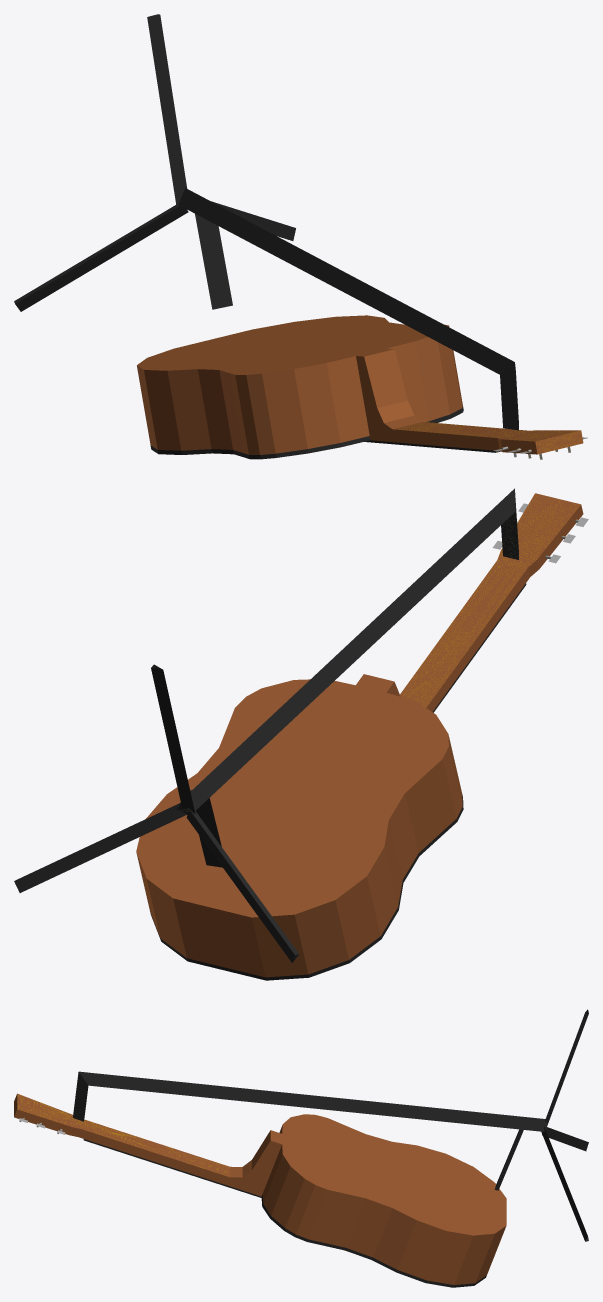
The picture shows the model from 3 angles, top to bottom: view 1: azimuth 30°, elevation 25°; view 2: azimuth 150°, elevation 25°; view 3: azimuth 270°, elevation 25°; orthographic projection. The views are drawn at different scales.
Parts seen in each view (by area): view 1: guitar stand with accoustic guitar; view 2: guitar stand with accoustic guitar; view 3: guitar stand with accoustic guitar.
Boxes of the visible parts, left/top/right/bottom form: guitar stand with accoustic guitar: left=14, top=14, right=587, bottom=459; guitar stand with accoustic guitar: left=14, top=488, right=588, bottom=980; guitar stand with accoustic guitar: left=14, top=1009, right=588, bottom=1287.
Bounding box in the file's own units: 18.46 × 22.23 × 45.83.
